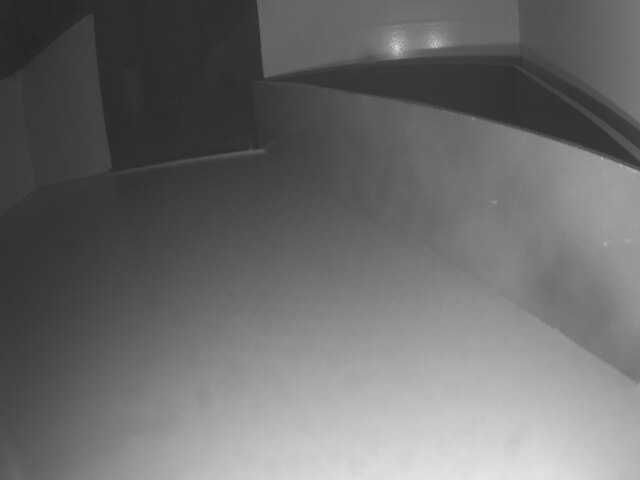Red: (250, 82, 640, 380)
